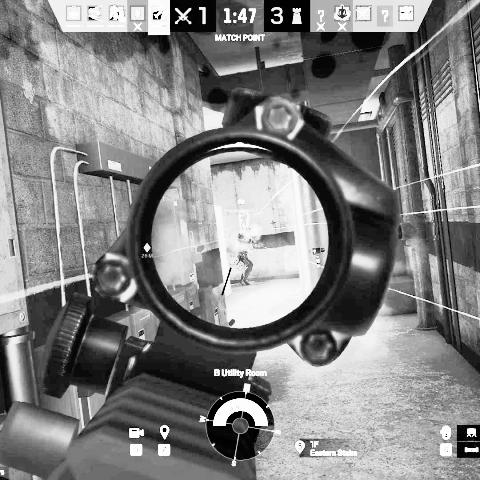Character: (235, 227, 265, 286)
Friend_label: (224, 198, 252, 213)
Head: (244, 226, 252, 235)
